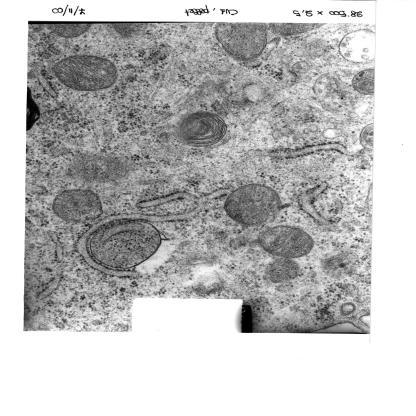mitochondria: (52, 54, 120, 91), (224, 184, 283, 225), (211, 23, 269, 61), (260, 226, 316, 260), (52, 187, 102, 221), (266, 23, 327, 35)
